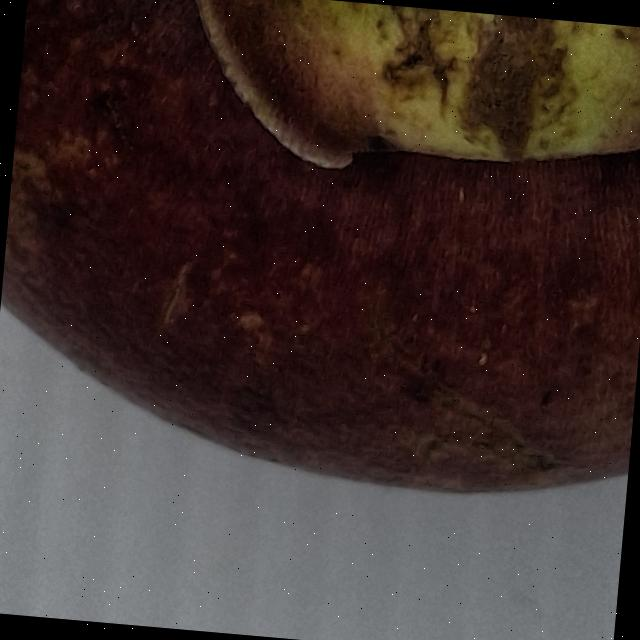mangosteen: (0, 0, 640, 557)
